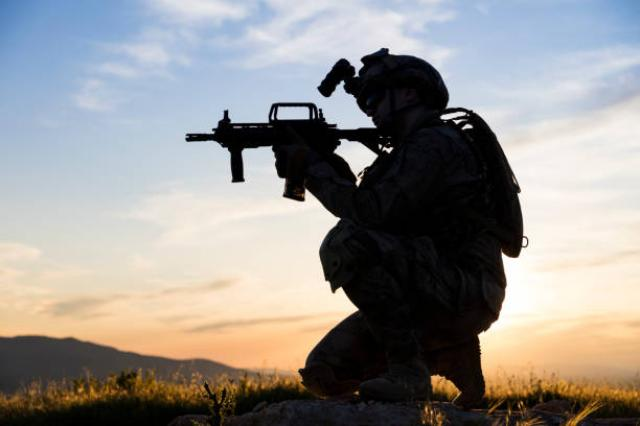other: (301, 49, 503, 399)
